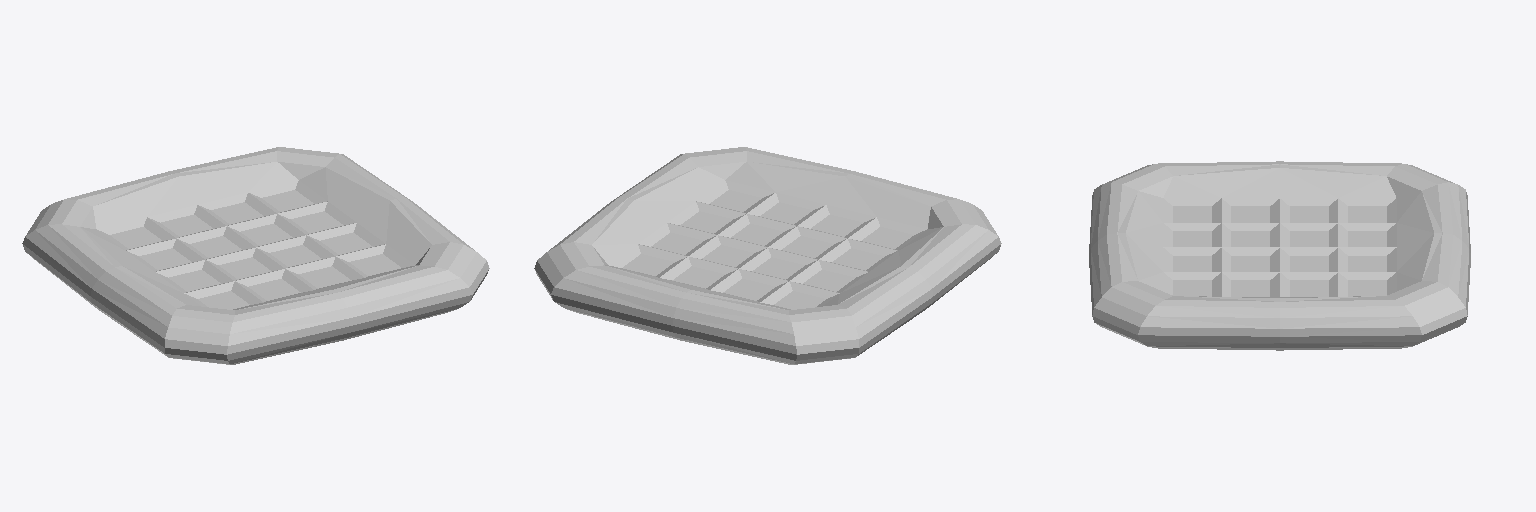
The model's file is TranslatePad.obj.
The picture shows the model from 3 angles: view 1: azimuth 30°, elevation 25°; view 2: azimuth 150°, elevation 25°; view 3: azimuth 270°, elevation 25°; orthographic projection.
Visible parts, largest first — view 1: Cube; view 2: Cube; view 3: Cube.
Part boxes in pixels (bbox=[...]): Cube: bbox=[22, 147, 489, 364]; Cube: bbox=[534, 147, 1001, 364]; Cube: bbox=[1089, 161, 1470, 350].
Bounding box in the file's own units: 2.85 × 0.3768 × 2.85.